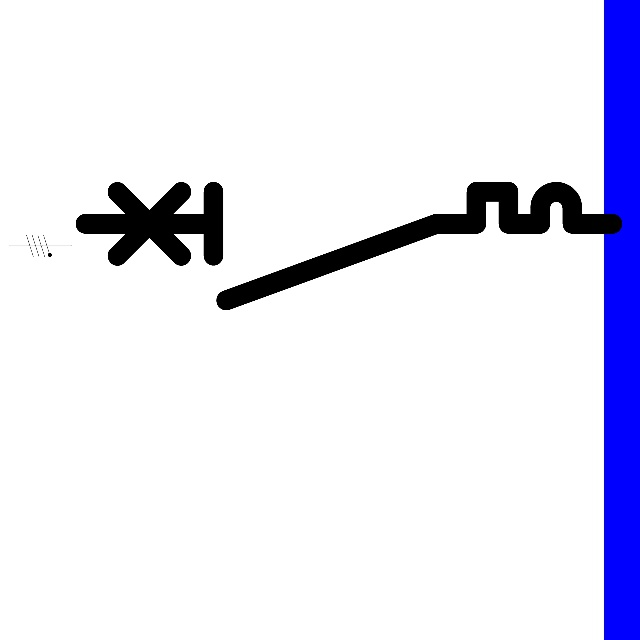interruptor_termomagnetico: (71, 178, 625, 313)
